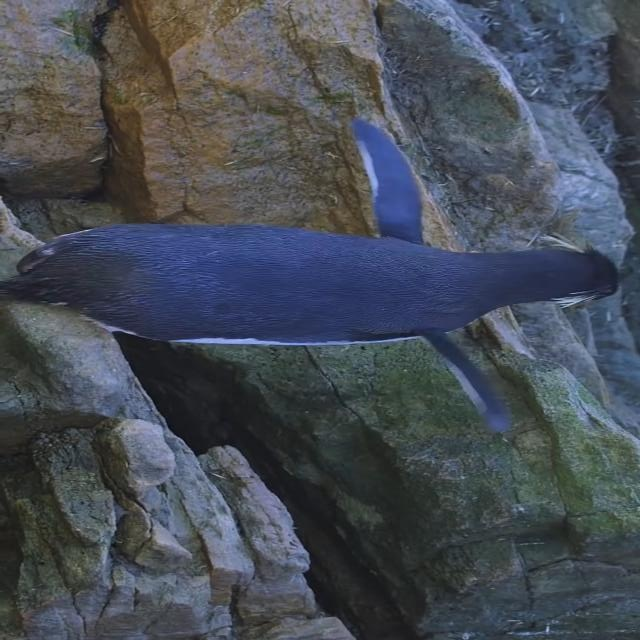penguin: (3, 114, 619, 438)
